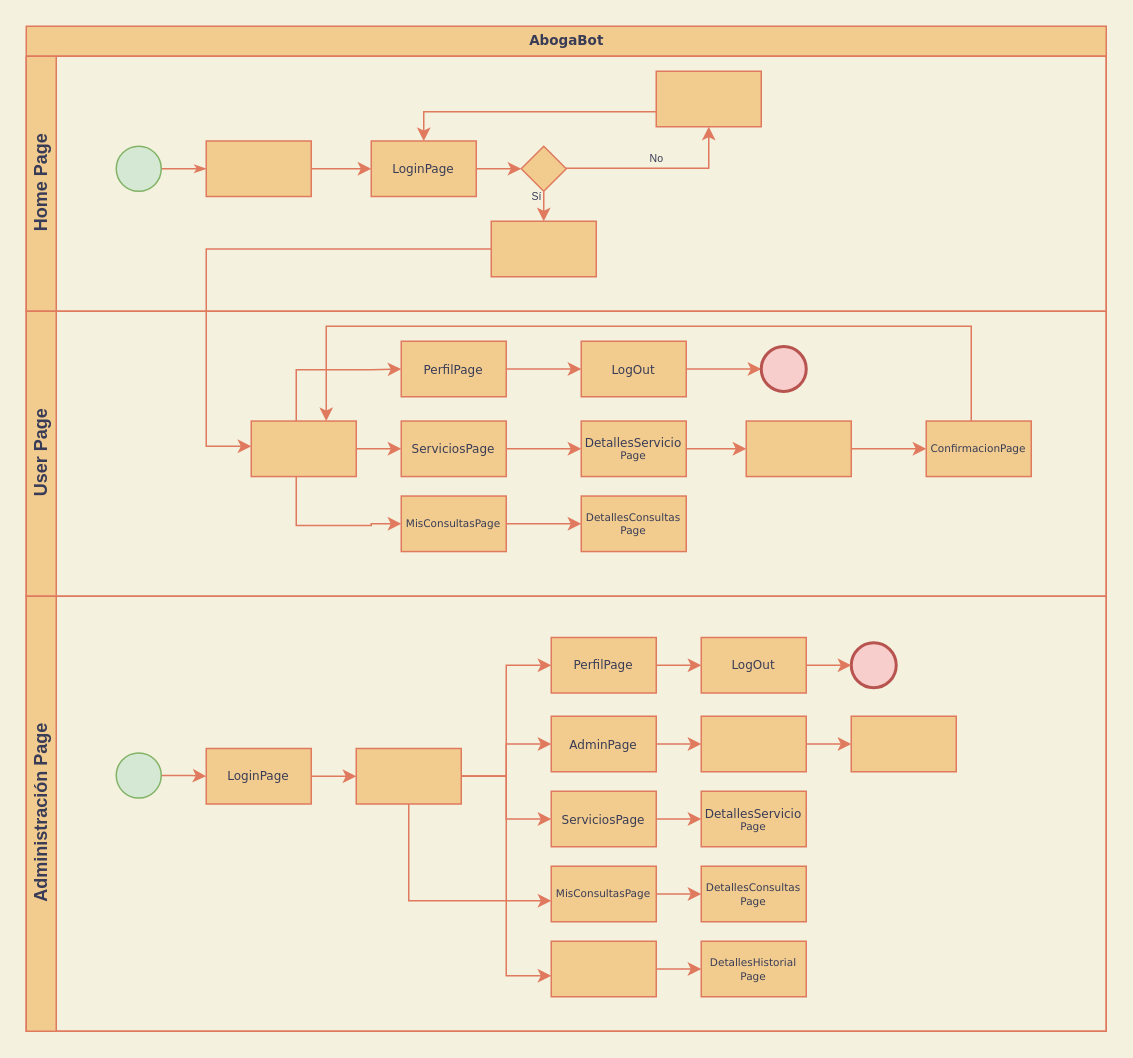
The diagram is 1133 pixels wide and 1058 high, and some of its shapes have lost their labels. Each missing label, with the centre of its shape:
"DashboardPage" goes at [408,775].
"DetallesUsers Page" goes at [903,743].
"HistorialPage" goes at [603,968].
"HomePage" goes at [258,168].
"HomeUserPage" goes at [303,448].
"InicioSesionPage" goes at [543,248].
"ParselaPage" goes at [798,448].
"RegistroPage" goes at [708,98].
"UsersPage" goes at [753,743].
"¿Está registrado?" goes at [543,168].
